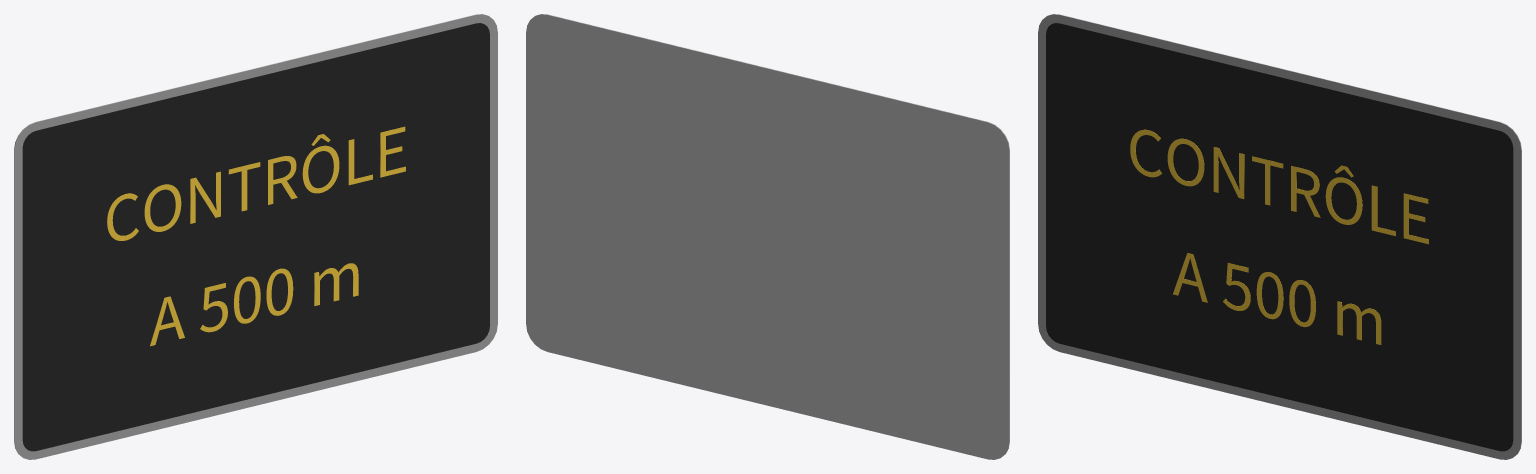
3 renders of one model, left to right at view 1: azimuth 30°, elevation 25°; view 2: azimuth 150°, elevation 25°; view 3: azimuth 330°, elevation 25°, orthographic.
Parts seen in each view (by area): view 1: X3a_r01, X3a_r00, X3a_txt02, X3a_txt03, X3a_dos; view 2: X3a_dos, X3a_r00; view 3: X3a_r01, X3a_r00, X3a_txt02, X3a_txt03, X3a_dos.
Boxes of the visible parts, left/top/right/bottom form: X3a_r01: left=22, top=23, right=489, bottom=451; X3a_r00: left=14, top=14, right=497, bottom=459; X3a_txt02: left=107, top=126, right=405, bottom=240; X3a_txt03: left=150, top=263, right=358, bottom=346; X3a_dos: left=14, top=14, right=487, bottom=452; X3a_dos: left=526, top=14, right=1009, bottom=459; X3a_r00: left=542, top=14, right=1009, bottom=448; X3a_r01: left=1046, top=23, right=1513, bottom=451; X3a_r00: left=1038, top=14, right=1521, bottom=459; X3a_txt02: left=1130, top=129, right=1428, bottom=244; X3a_txt03: left=1173, top=253, right=1381, bottom=344; X3a_dos: left=1048, top=14, right=1521, bottom=452.
Size of the model in its own units: 0.9 by 0.6 by 0.0029.
